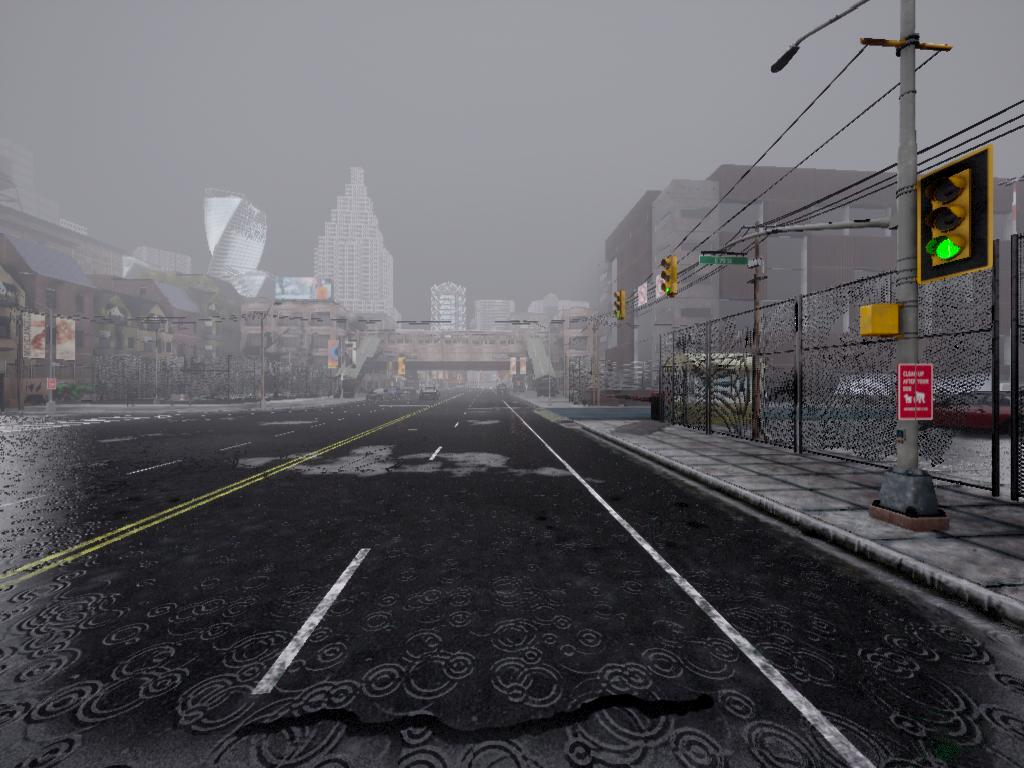traffic_light: (922, 160, 988, 277), (859, 307, 908, 338), (662, 259, 680, 299), (613, 293, 626, 322), (394, 360, 406, 376)
